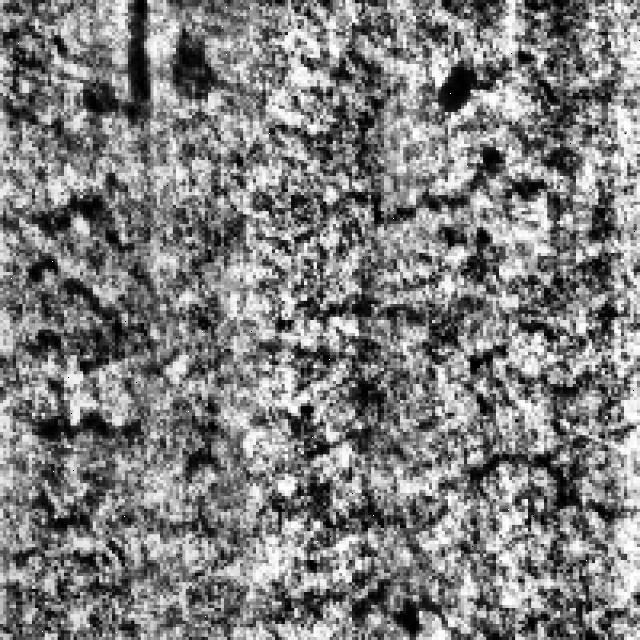Pitted_Surface: (307, 135, 637, 502), (35, 163, 227, 531)
